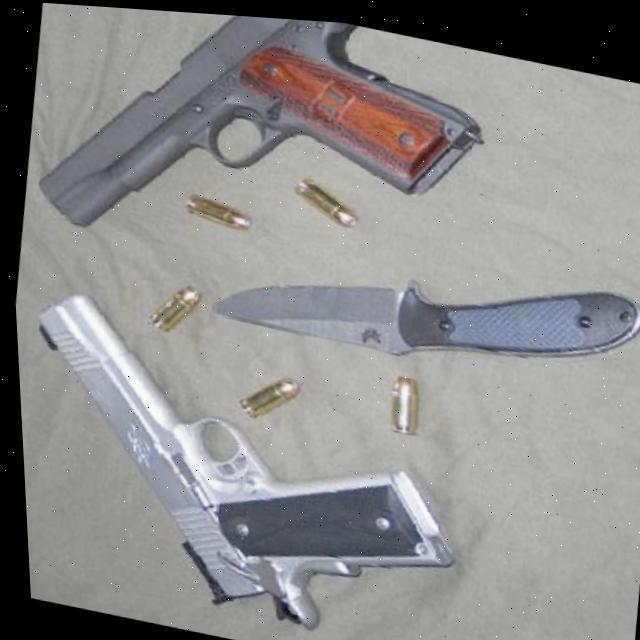gun: (11, 278, 482, 640), (19, 1, 497, 301)
